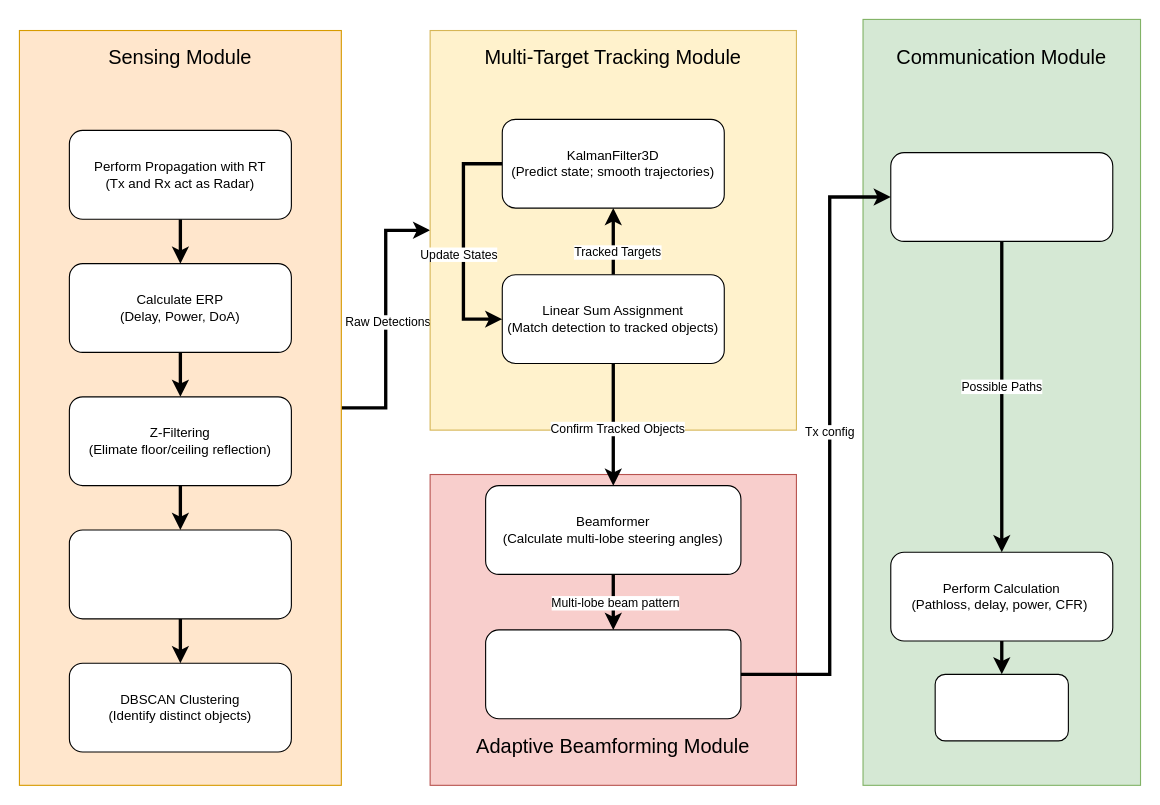
Some shapes in this 1160 by 805 pixel diagram are drawn without their labels. The shapes that lost their labels are listed below. From the top down, each one's centre as x and y in pixels, then its label:
At (x=1001, y=196): "Perform Propagation with RT (Tx with calculated multi-lobe)".
At (x=179, y=574): "MTI Filter (Background / Static Substraction)".
At (x=613, y=674): "Update Tx Planar Array Pattern".
At (x=1001, y=707): "Tx-Rx Propagation Records".
